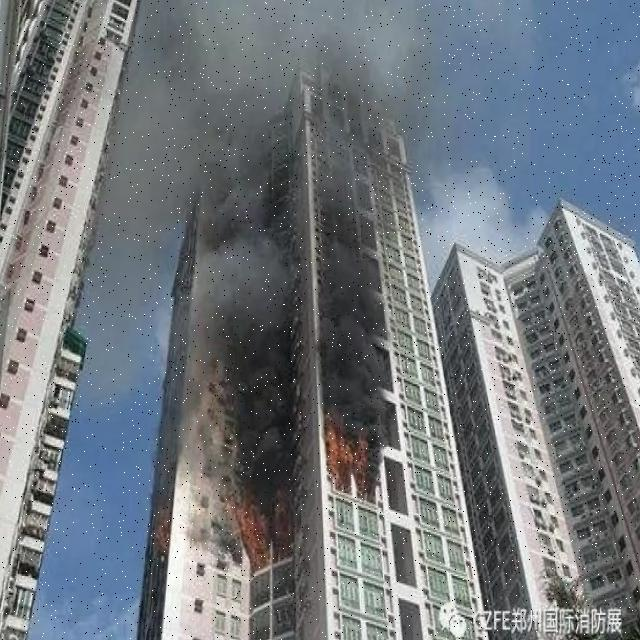fire: (308, 422, 400, 500), (230, 489, 307, 564)
smoke: (174, 8, 431, 411)
